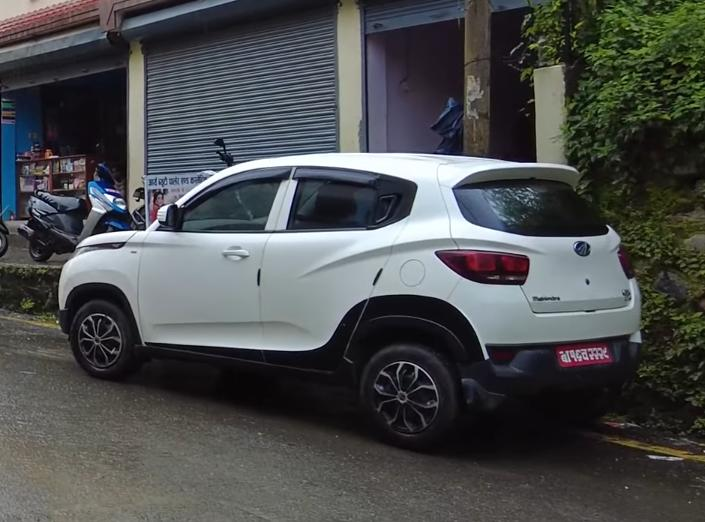car: (51, 157, 660, 440)
scooter: (19, 159, 134, 265)
